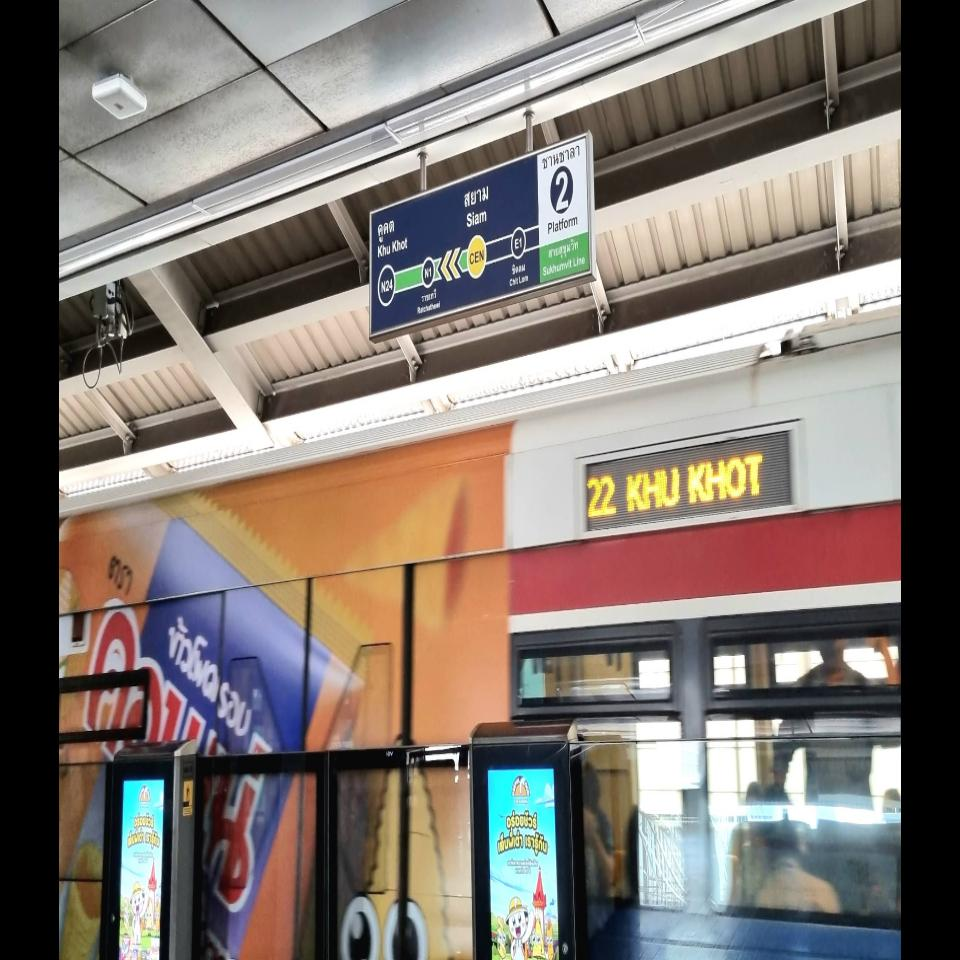signage: (421, 184, 528, 288)
